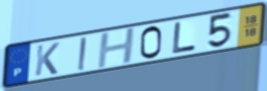0: (139, 25, 163, 60)
5: (206, 10, 235, 50)
H: (96, 25, 138, 70)
I: (76, 35, 88, 72)
K: (33, 41, 61, 78)
L: (171, 20, 198, 56)
